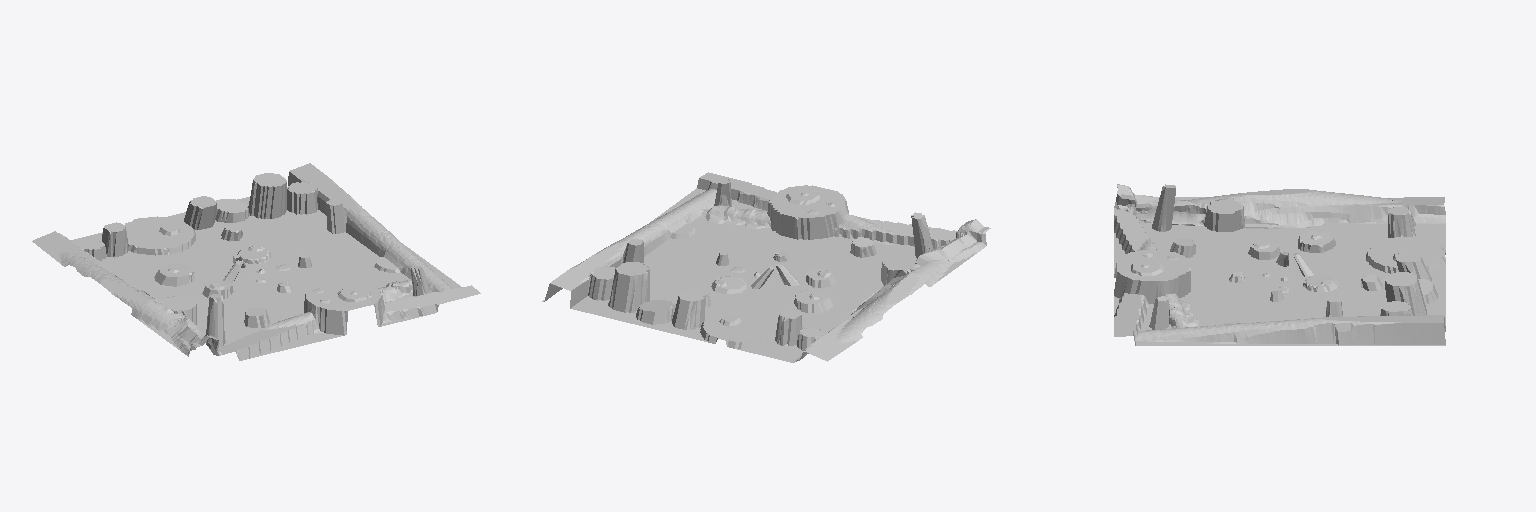
The model's file is Ground2.obj.
3 renders of one model, left to right at view 1: azimuth 30°, elevation 25°; view 2: azimuth 150°, elevation 25°; view 3: azimuth 270°, elevation 25°, orthographic.
Parts seen in each view (by area): view 1: Plan; view 2: Plan; view 3: Plan.
Part boxes in pixels (x1,y1,x2,y2): Plan: (32,163,480,360); Plan: (542,172,990,362); Plan: (1114,184,1445,345).
Bounding box in the file's own units: 472 × 75.33 × 474.